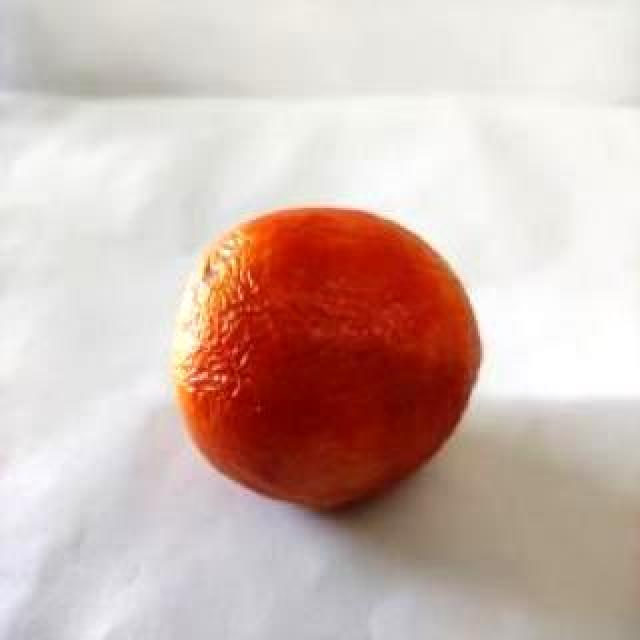Rotten_Tomato: (166, 192, 492, 544)
